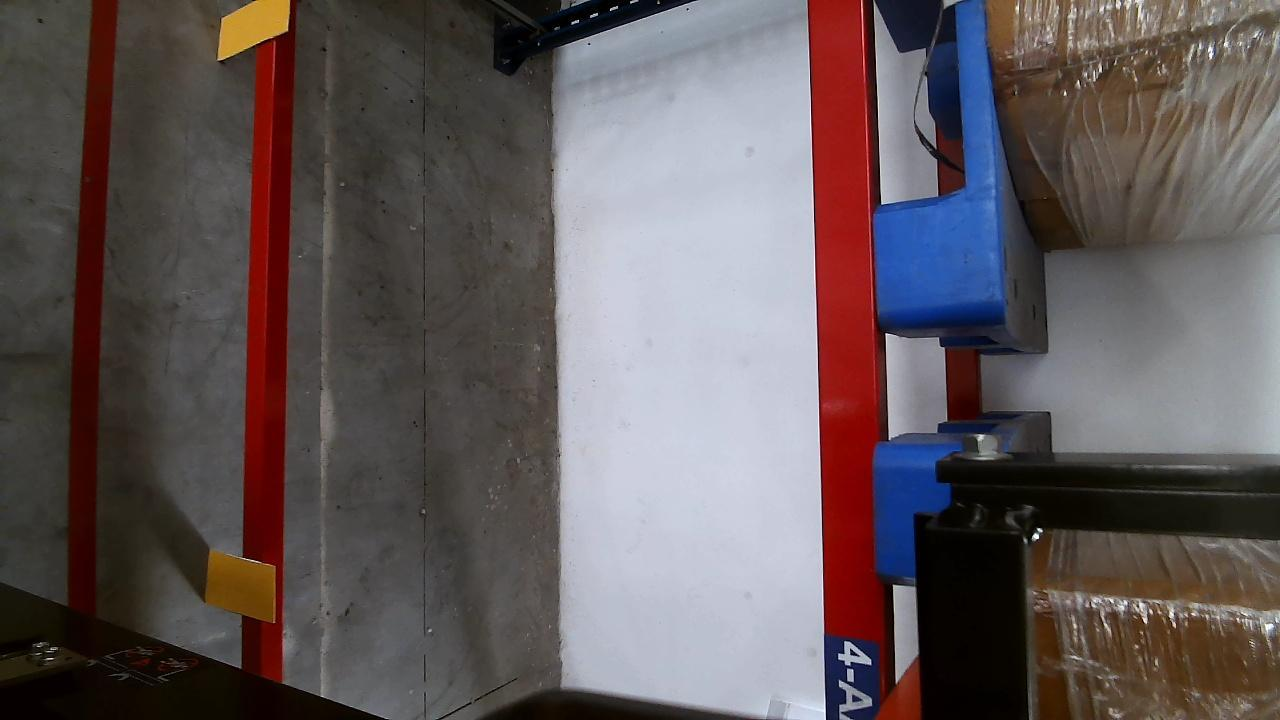h_rack: (810, 0, 896, 720), (238, 40, 279, 674)
orange_strip: (202, 553, 275, 622), (217, 0, 290, 61)
red_line: (71, 2, 118, 613)
small_pallet: (866, 1, 1003, 321)
